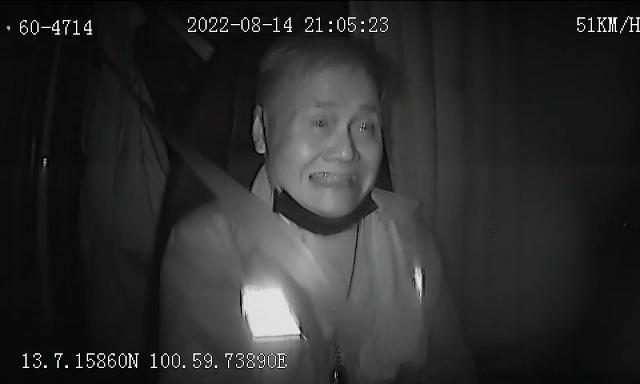SafeDriving: (348, 108, 382, 141), (304, 106, 338, 134)
Seatbelt: (195, 161, 328, 297)
